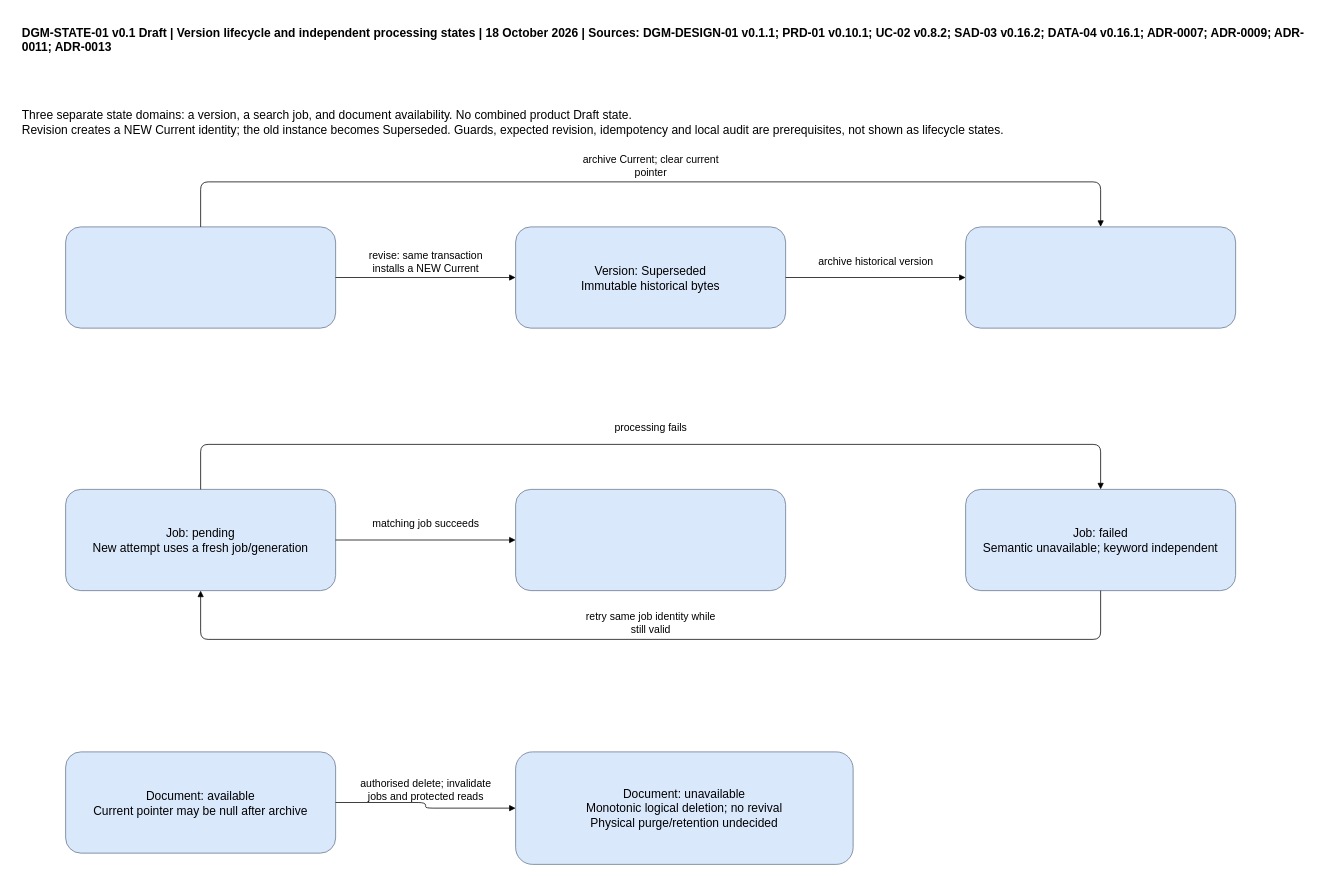
This 1331x878 diagram has some shape labels left out. The centre of each missing label's shape, as x and y in pixels:
Job: ready Exact version/revision/generation match: the point at 650,540
Version: Archived Only explicit history if readable: the point at 1100,277
Version: Current: the point at 200,277
